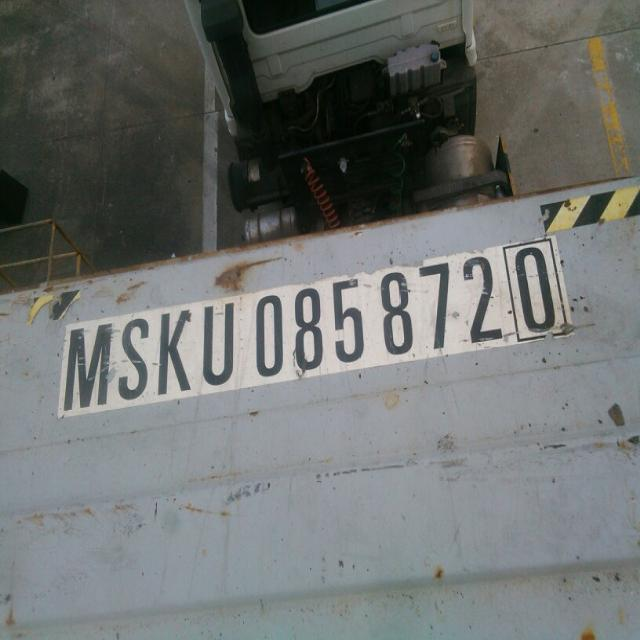rust: (213, 256, 291, 295)
